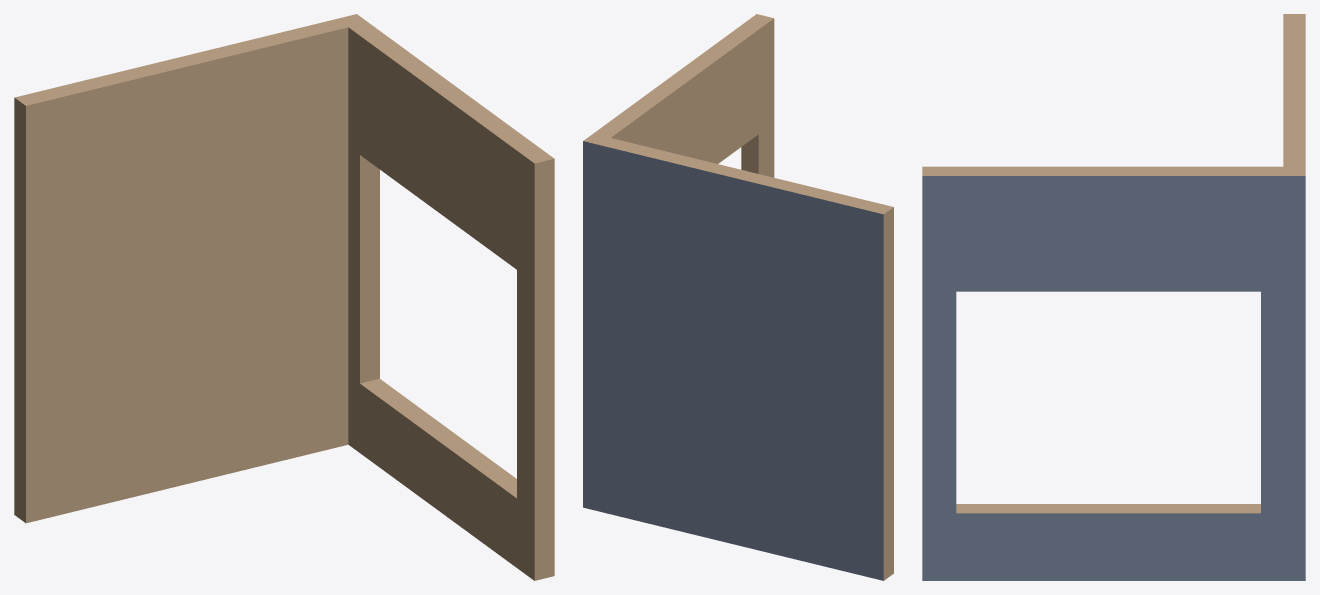
File: Wall3_C3_14.fbx
The picture shows the model from 3 angles, left to right: view 1: azimuth 30°, elevation 25°; view 2: azimuth 150°, elevation 25°; view 3: azimuth 270°, elevation 25°; orthographic projection. The views are drawn at different scales.
Parts seen in each view (by area): view 1: Wall3_C3_14; view 2: Wall3_C3_14; view 3: Wall3_C3_14.
Boxes of the visible parts, x1,y1,x2,y2 form: Wall3_C3_14: (14, 14, 554, 580); Wall3_C3_14: (583, 14, 893, 580); Wall3_C3_14: (922, 14, 1305, 580).
Size of the model in its own units: 258 by 300 by 258.
